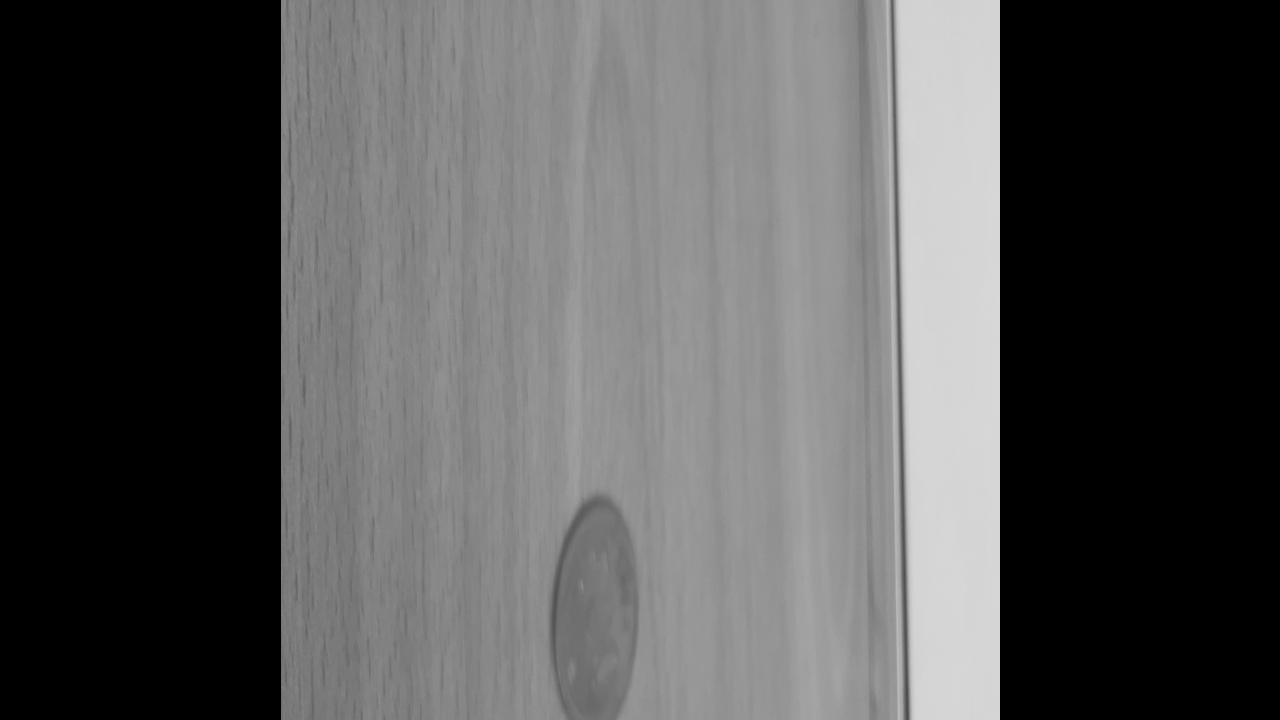coin: (547, 489, 640, 720)
